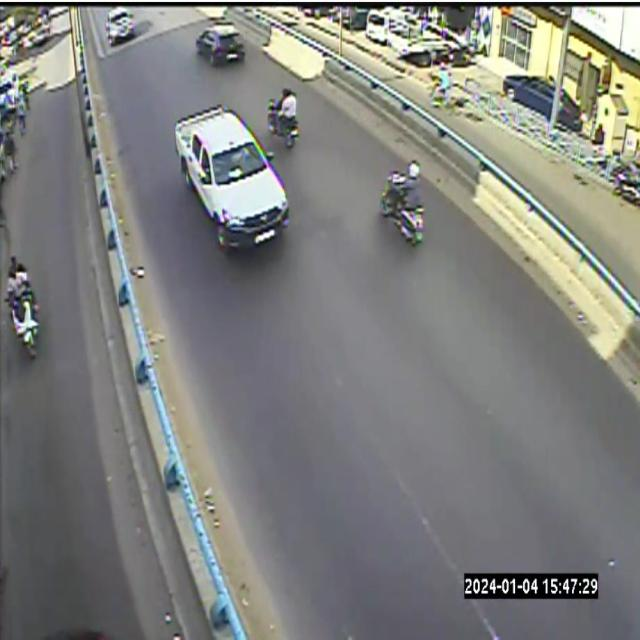car: (175, 106, 288, 257), (503, 75, 554, 120), (557, 89, 582, 130), (558, 90, 582, 132)
